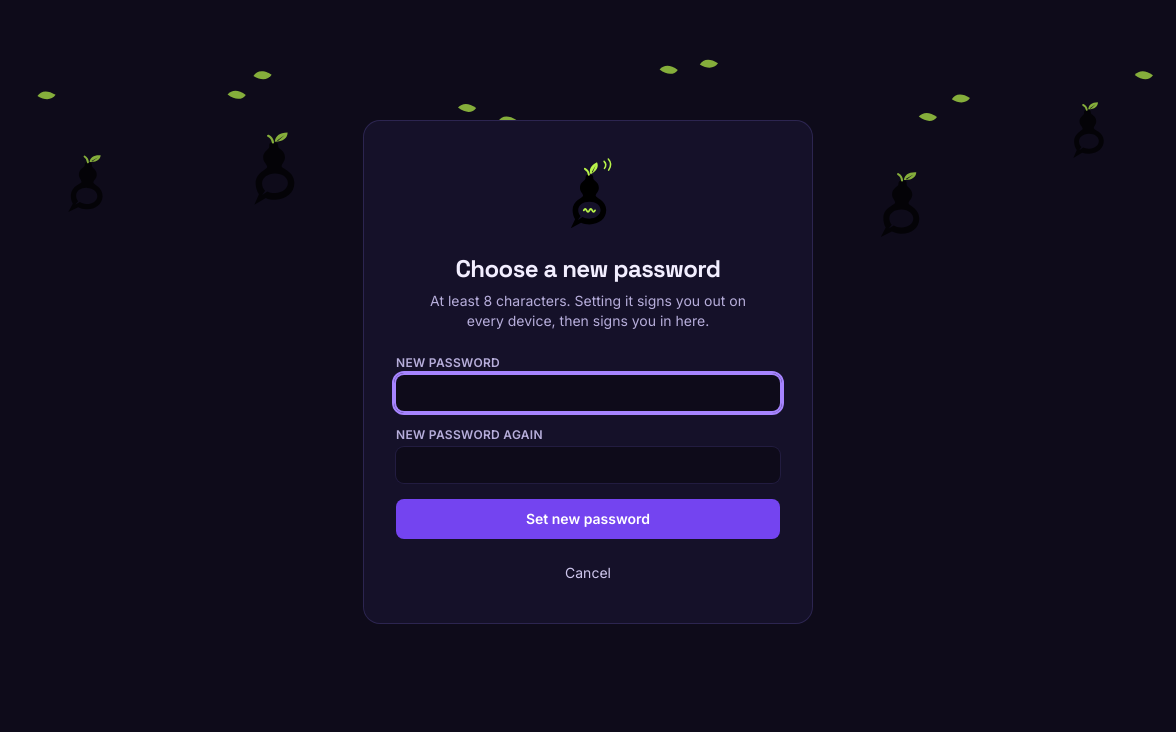
the reset page: a suspended account is told it can’t sign in yet
The image size is (1176, 732).
Step 1. Type "squash-harvest-42" into the password field labelled "New password" → (588, 393), box [396, 375, 780, 411]
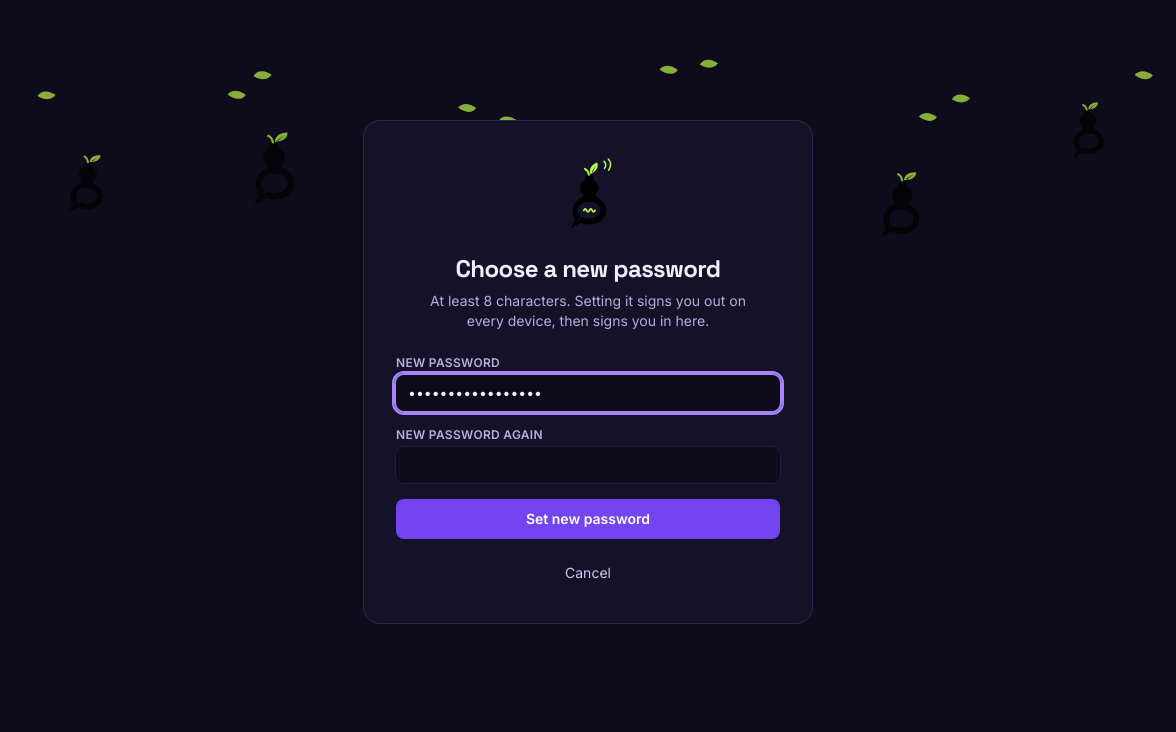
Step 2. Type "squash-harvest-42" into the password field labelled "New password again" → (588, 465), box [396, 447, 780, 483]
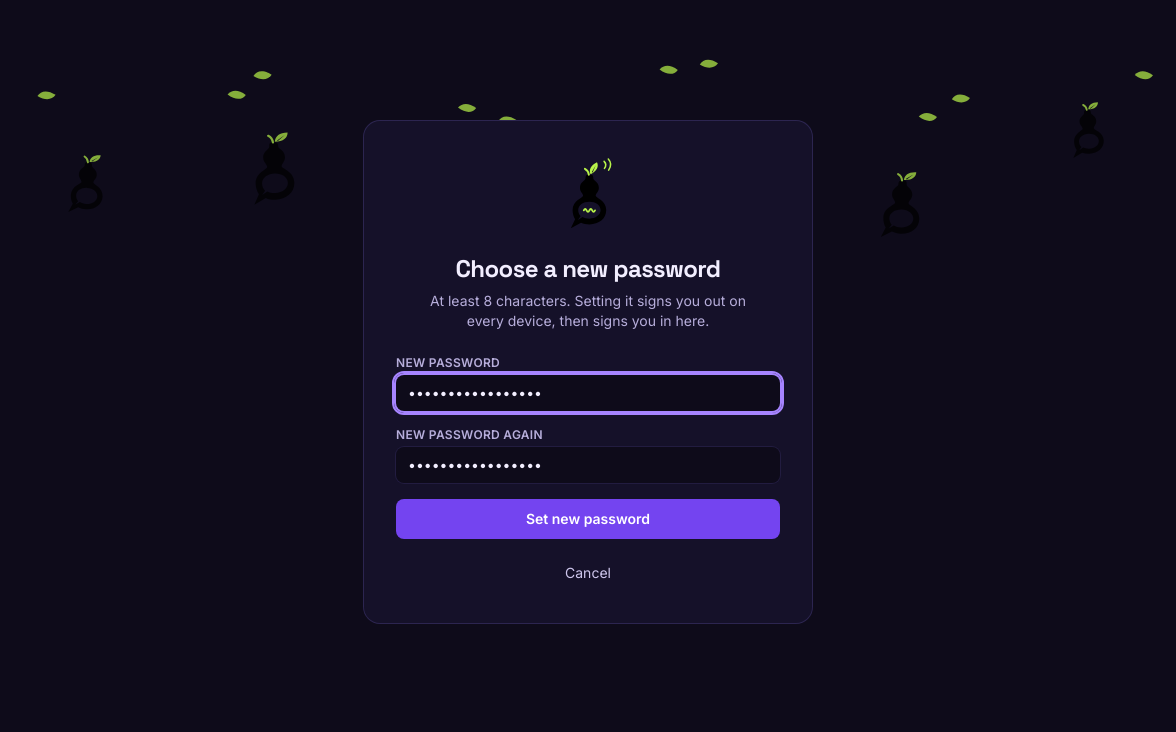
Step 3. Click the button "Set new password" → (588, 519), box [396, 499, 780, 539]
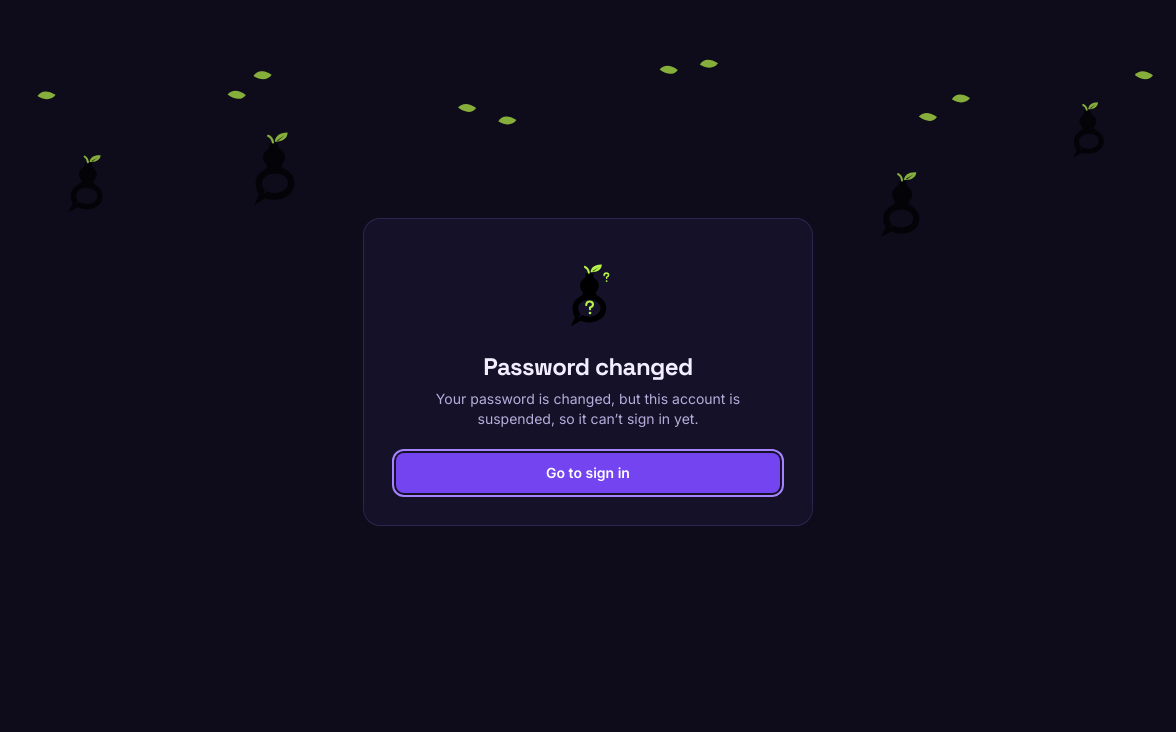
Check: the text "this account is suspended" is shown, box [436, 390, 740, 427]
